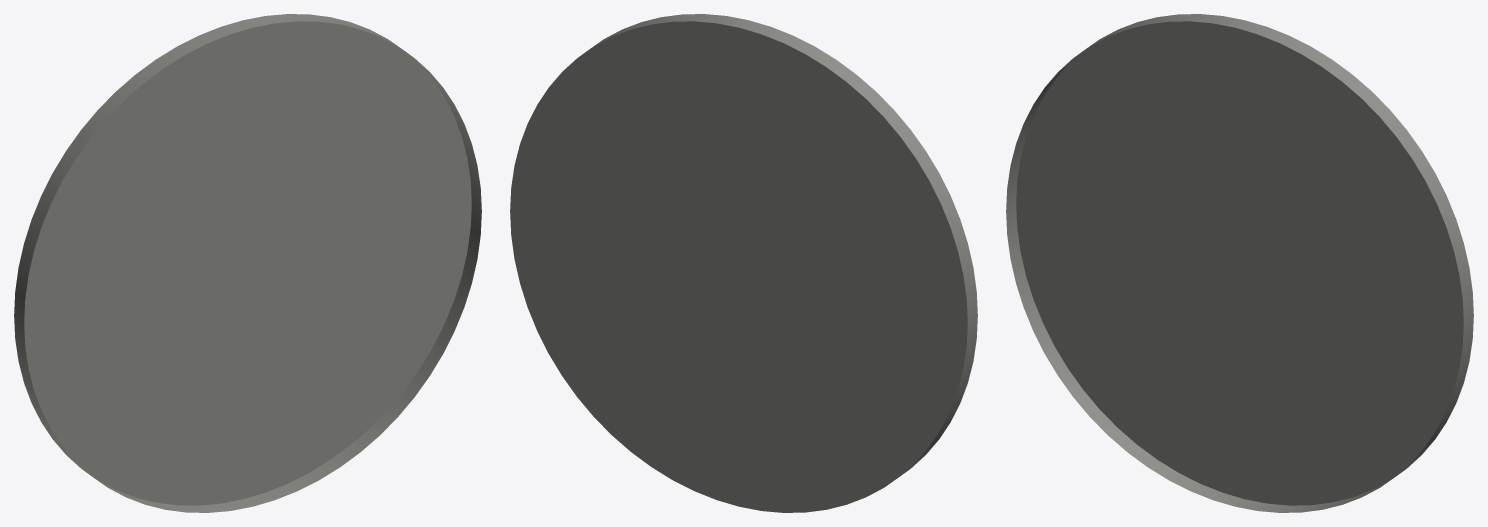
The model's file is asspod_well_white.obj.
3 views of the same model, side by side, from view 1: azimuth 30°, elevation 25°; view 2: azimuth 150°, elevation 25°; view 3: azimuth 330°, elevation 25° (orthographic).
Bounding box in the file's own units: 0.0394 × 0.0394 × 0.0015.
Materials: 1 (1 with a texture image).
